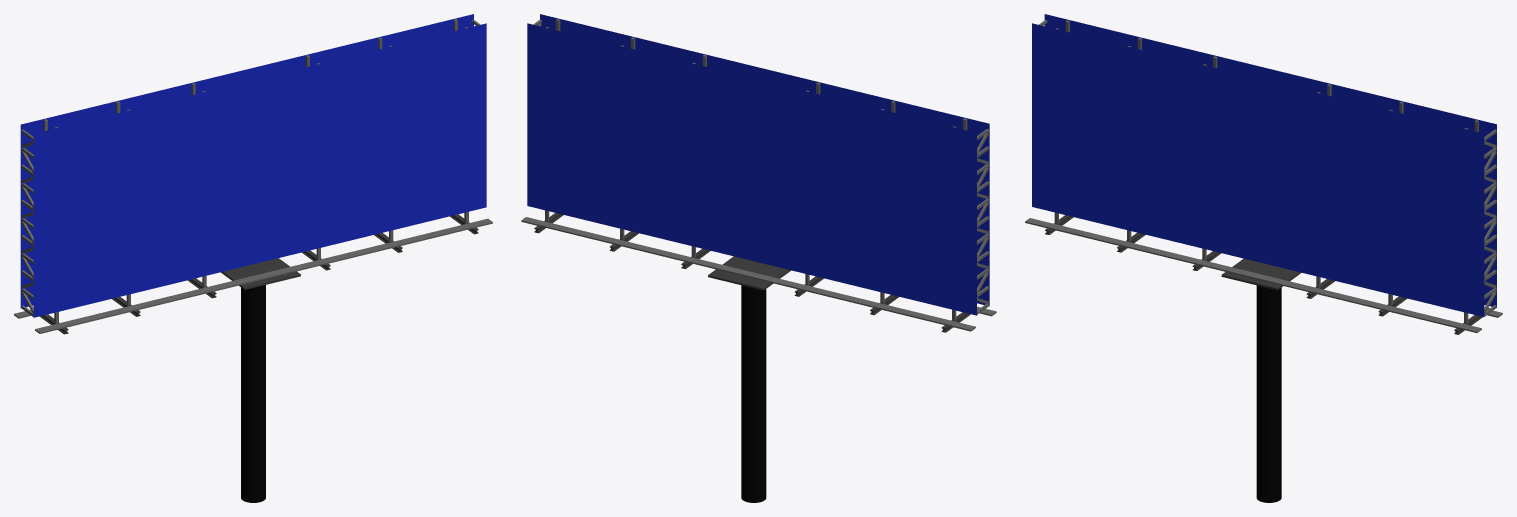
Rendered from billboard.fbx.
3 renders of one model, left to right at view 1: azimuth 30°, elevation 25°; view 2: azimuth 150°, elevation 25°; view 3: azimuth 330°, elevation 25°, orthographic.
Parts seen in each view (by area): view 1: Cube, Cylinder, Cube.061, Cube.063; view 2: Cube, Cylinder, Cube.062, Cube.063; view 3: Cube, Cylinder, Cube.061, Cube.063.
Boxes of the visible parts, left/top/right/bottom form: Cube: left=20, top=14, right=486, bottom=317; Cylinder: left=241, top=285, right=265, bottom=502; Cube.061: left=35, top=218, right=492, bottom=333; Cube.063: left=221, top=258, right=300, bottom=289; Cube: left=527, top=14, right=989, bottom=315; Cylinder: left=741, top=285, right=766, bottom=502; Cube.062: left=521, top=217, right=975, bottom=331; Cube.063: left=708, top=256, right=790, bottom=290; Cube: left=1032, top=14, right=1496, bottom=316; Cylinder: left=1256, top=285, right=1281, bottom=502; Cube.061: left=1025, top=218, right=1481, bottom=332; Cube.063: left=1221, top=258, right=1301, bottom=290.
Bounding box in the file's own units: 833 × 747 × 120.
